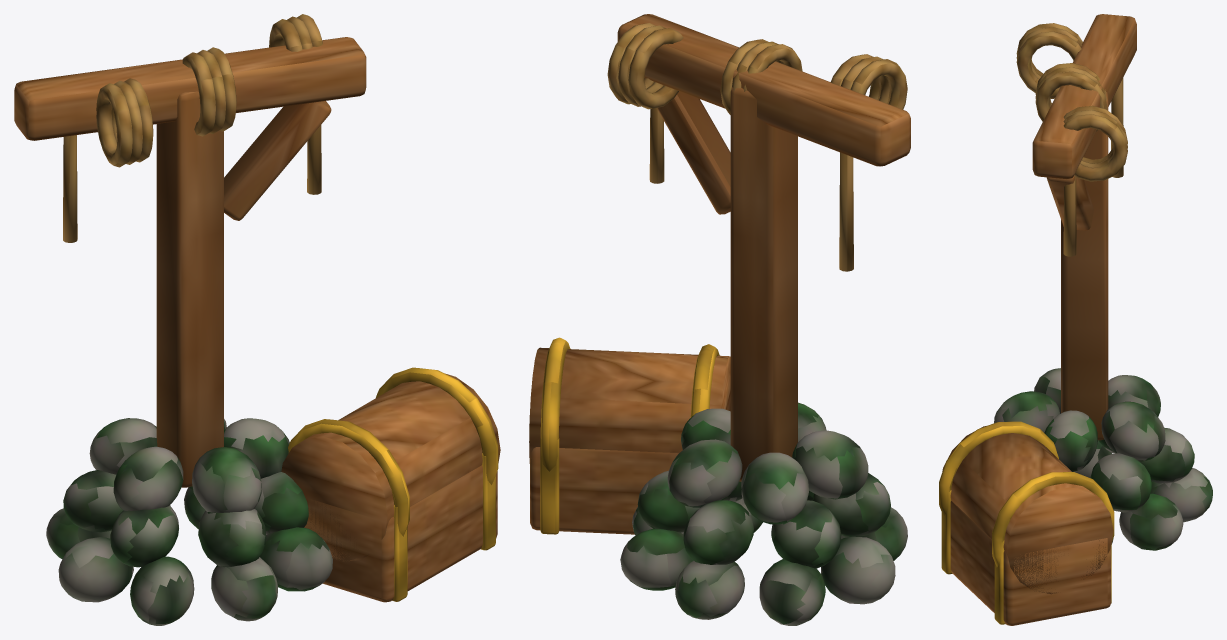
File: g_prop_owlery.glb
The picture shows the model from 3 angles, left to right: view 1: azimuth 30°, elevation 25°; view 2: azimuth 150°, elevation 25°; view 3: azimuth 270°, elevation 25°; orthographic projection. The views are drawn at different scales.
Parts seen in each view (by area): view 1: OwlTimberPost, ChestLid, OwlCrossBeam, ChestBox, OwlAngleBrace, CairnCobble_2_3, CairnCobble_2_2, CairnCobble_0_7, CairnCobble_0_4, CairnCobble_0_5, CairnCobble_1_3, CairnCobble_1_4 (+19 smaller); view 2: OwlTimberPost, ChestLid, OwlCrossBeam, ChestBox, OwlAngleBrace, CairnCobble_2_0, CairnCobble_2_2, CairnCobble_2_1, CairnCobble_0_4, CairnCobble_1_1, CairnCobble_0_3, CairnCobble_0_1 (+21 smaller); view 3: ChestLid, ChestBox, OwlTimberPost, OwlCrossBeam, CairnCobble_2_0, CairnCobble_0_1, CairnCobble_1_0, CairnCobble_2_4, ChestLidBand_0.18, ChestLidBand_-0.18, CairnCobble_0_2, RopeWrap_0.10_2 (+14 smaller).
Part boxes in pixels (x1,y1,x2,y2): OwlTimberPost: [156, 91, 223, 487]; ChestLid: [281, 373, 500, 561]; OwlCrossBeam: [14, 37, 366, 140]; ChestBox: [306, 465, 497, 602]; OwlAngleBrace: [224, 101, 331, 220]; CairnCobble_2_3: [192, 447, 261, 512]; CairnCobble_2_2: [113, 446, 183, 510]; CairnCobble_0_7: [260, 527, 332, 591]; CairnCobble_0_4: [58, 537, 133, 602]; CairnCobble_0_5: [130, 556, 194, 625]; CairnCobble_1_3: [110, 505, 178, 567]; CairnCobble_1_4: [198, 509, 266, 567]; OwlTimberPost: [730, 87, 797, 481]; ChestLid: [529, 347, 730, 463]; OwlCrossBeam: [617, 14, 910, 166]; ChestBox: [530, 447, 678, 534]; OwlAngleBrace: [657, 91, 730, 214]; CairnCobble_2_0: [667, 439, 742, 507]; CairnCobble_2_2: [792, 430, 868, 499]; CairnCobble_2_1: [741, 452, 808, 524]; CairnCobble_0_4: [821, 536, 895, 604]; CairnCobble_1_1: [683, 500, 753, 564]; CairnCobble_0_3: [759, 559, 825, 625]; CairnCobble_0_1: [620, 528, 693, 590]; ChestLid: [942, 426, 1113, 594]; ChestBox: [950, 500, 1110, 625]; OwlTimberPost: [1061, 92, 1108, 440]; OwlCrossBeam: [1032, 14, 1136, 178]; CairnCobble_2_0: [1101, 401, 1165, 461]; CairnCobble_0_1: [1119, 493, 1183, 550]; CairnCobble_1_0: [1090, 453, 1151, 512]; CairnCobble_2_4: [1044, 410, 1097, 472]; ChestLidBand_0.18: [992, 472, 1114, 567]; ChestLidBand_-0.18: [939, 421, 1058, 516]; CairnCobble_0_2: [1150, 468, 1212, 522]; RopeWrap_0.10_2: [1063, 114, 1127, 181].
Bounding box in the file's own units: 1.16 × 1.39 × 0.756.
Materials: 4 (4 with a texture image).
